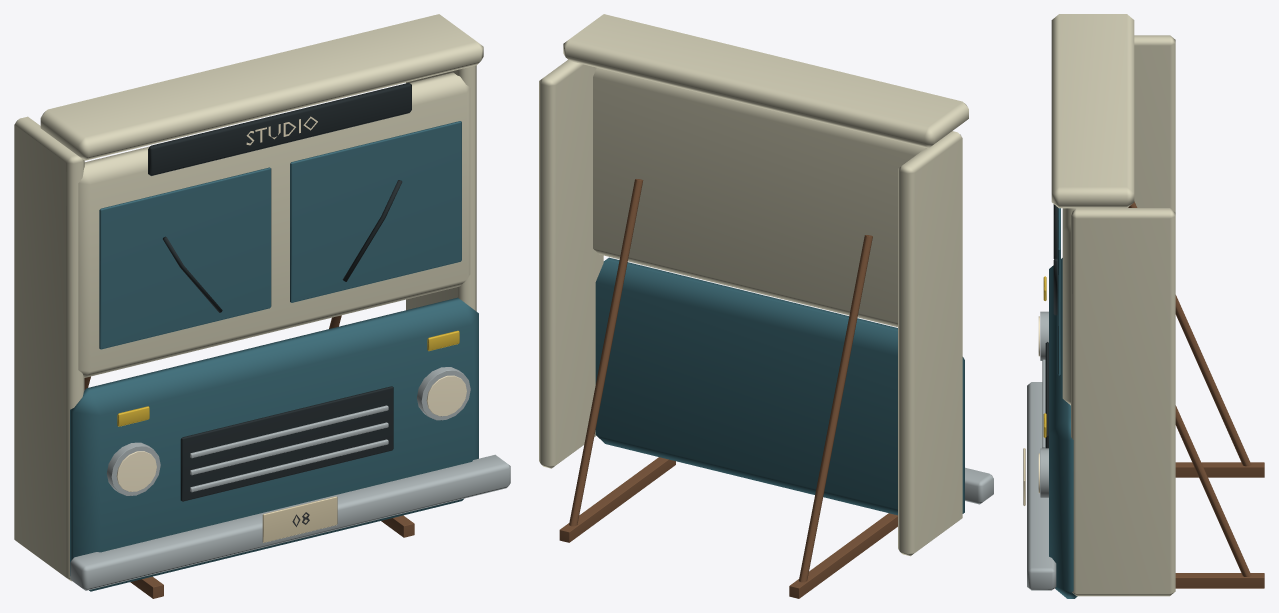
File: S090_bus_front_shell_rebuilt.glb
The picture shows the model from 3 angles, left to right: view 1: azimuth 30°, elevation 25°; view 2: azimuth 150°, elevation 25°; view 3: azimuth 270°, elevation 25°; orthographic projection. The views are drawn at different scales.
Visible parts, largest first — view 1: Bus_warm_cream_paint, blue, glass, dark, steel, cream, paper, wood, yellow; view 2: Bus_warm_cream_paint, blue, wood, steel; view 3: Bus_warm_cream_paint, blue, wood, steel, dark, glass.
Part boxes in pixels (<box>): Bus_warm_cream_paint: <box>14,14,483,581</box>; blue: <box>70,297,478,591</box>; glass: <box>99,121,461,349</box>; dark: <box>148,82,411,501</box>; steel: <box>70,367,510,590</box>; cream: <box>116,116,466,491</box>; paper: <box>262,496,337,542</box>; wood: <box>84,315,414,598</box>; yellow: <box>117,330,459,426</box>; Bus_warm_cream_paint: <box>539,14,968,556</box>; blue: <box>595,257,964,515</box>; wood: <box>559,179,897,598</box>; steel: <box>965,467,993,504</box>; Bus_warm_cream_paint: <box>1051,14,1175,596</box>; blue: <box>1049,258,1077,598</box>; wood: <box>1054,201,1264,588</box>; steel: <box>1027,311,1056,590</box>; dark: <box>1045,204,1057,448</box>; glass: <box>1057,207,1060,375</box>.
Bounding box in the file's own units: 2.62 × 2.78 × 1.41.
